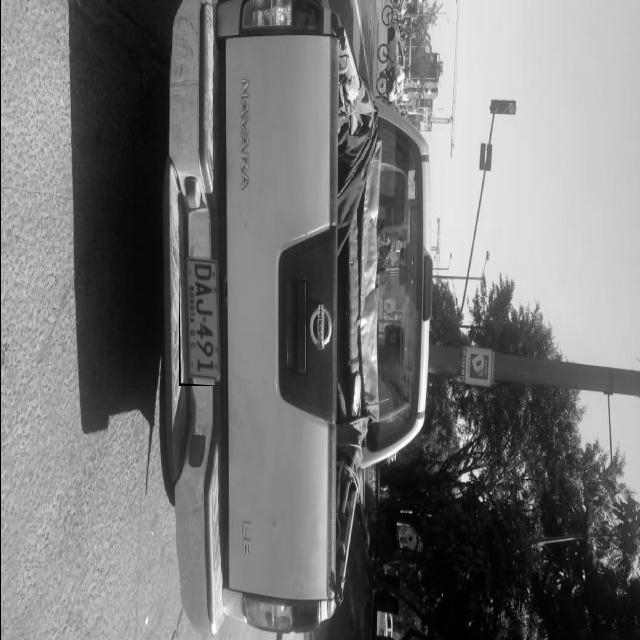plate: (178, 256, 220, 386)
